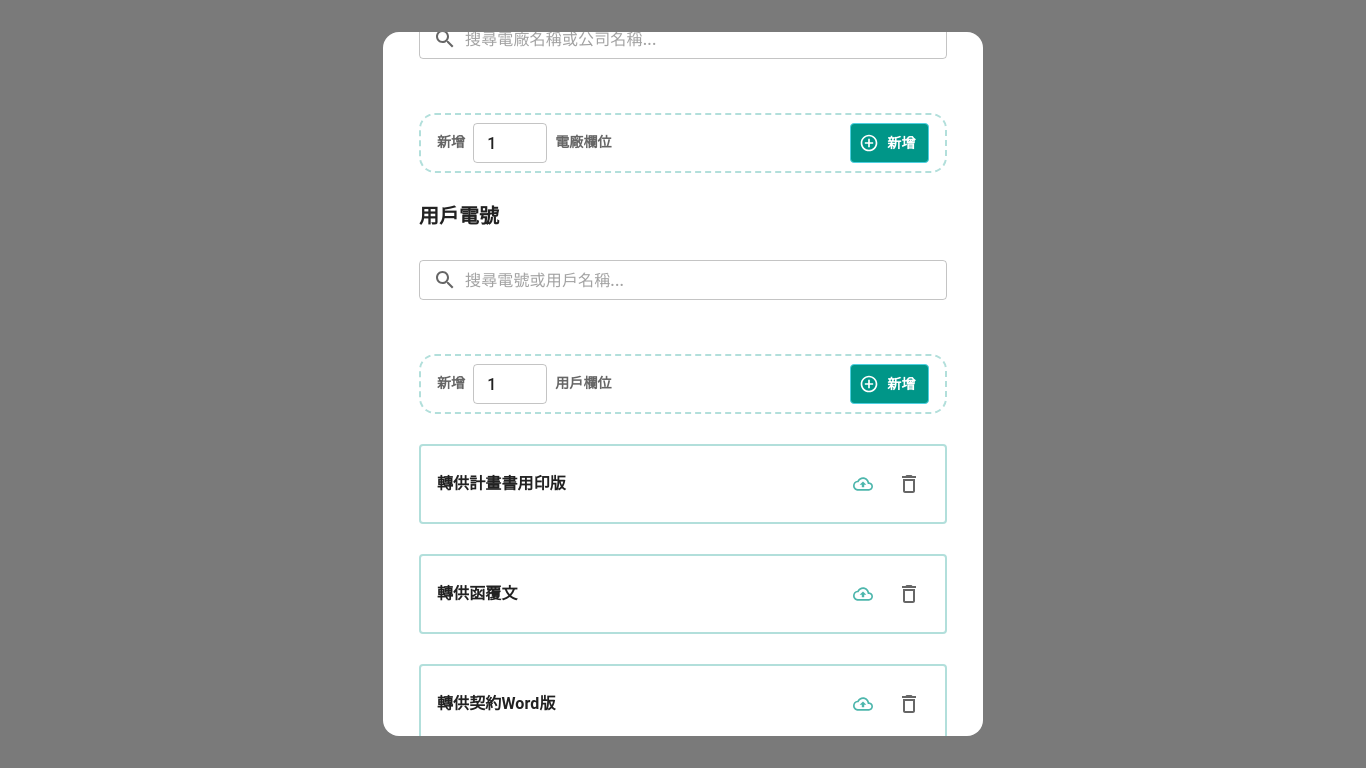
it: TransferDocumentDialog › 動態表單欄位測試 › 點擊新增按鈕應該新增用戶 Chip
This screenshot has width=1366, height=768.
(page scrolled)
// 第二個「新增」按鈕是用戶區段的
What coordinates should you click on to do the following:
click the button "新增" in the row of "用戶欄位"
I would click on:
 (890, 384)
Its box is [850,364,929,404].
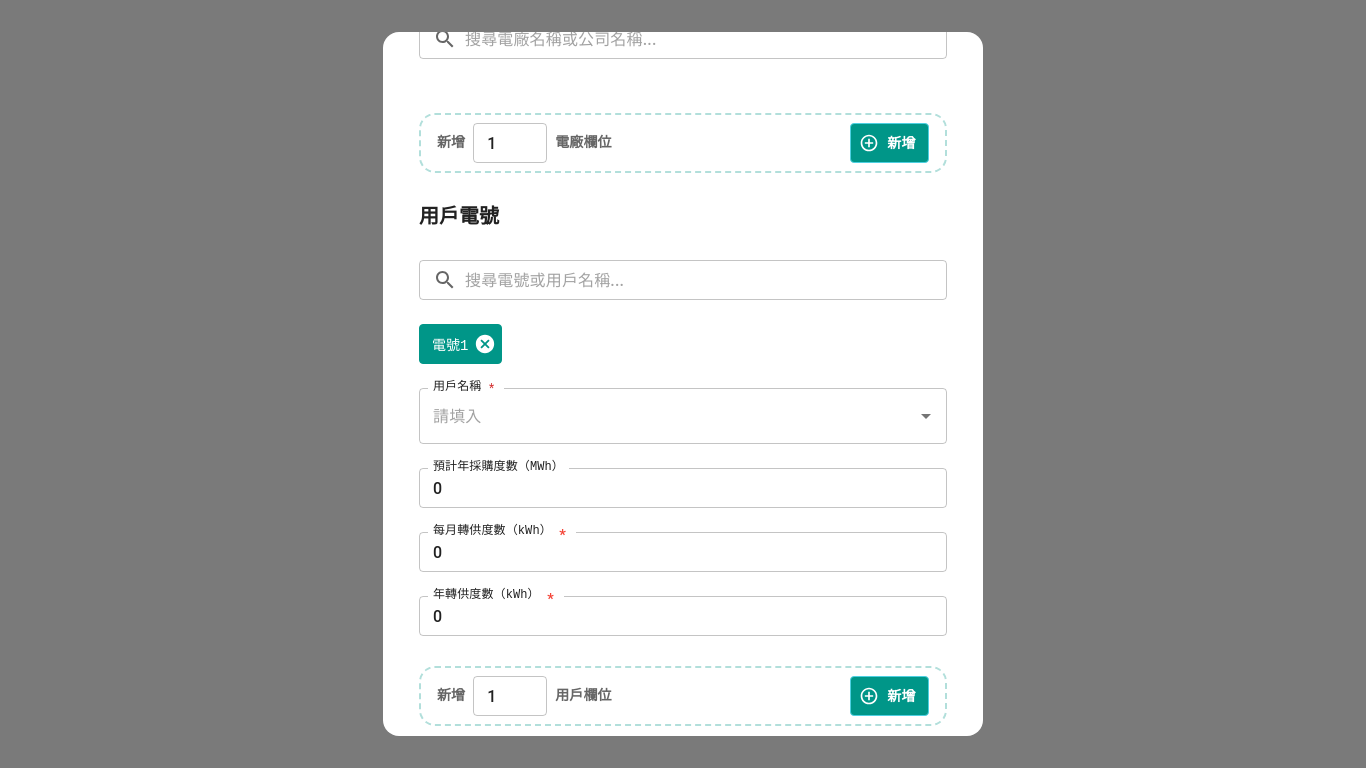
Result: the text "電號1" is shown at [432,338,468,354]
